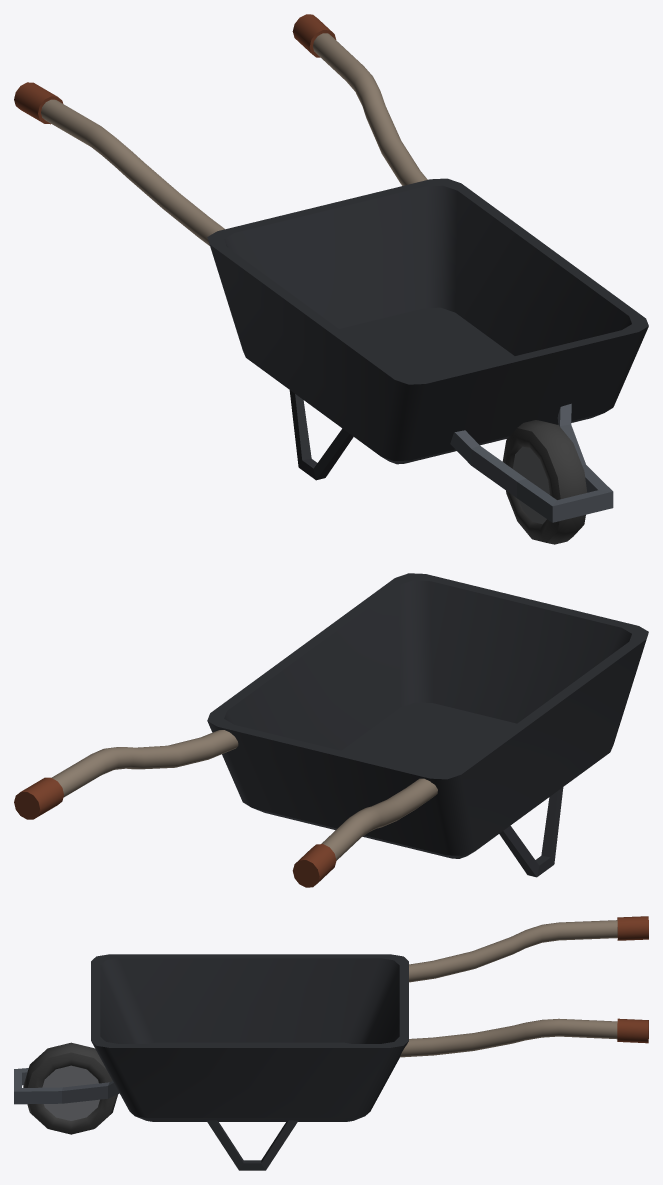
Rendered from GardenCart_4.fbx.
3 views of the same model, one above another, from view 1: azimuth 30°, elevation 25°; view 2: azimuth 150°, elevation 25°; view 3: azimuth 270°, elevation 25° (orthographic). The views are drawn at different scales.
Parts seen in each view (by area): view 1: GardenCart_4; view 2: GardenCart_4; view 3: GardenCart_4.
Part boxes in pixels (x1=…): GardenCart_4: x1=14, y1=14, x2=648, y2=544; GardenCart_4: x1=14, y1=573, x2=648, y2=887; GardenCart_4: x1=14, y1=916, x2=648, y2=1170.
Bounding box in the file's own units: 150 × 100 × 355.
